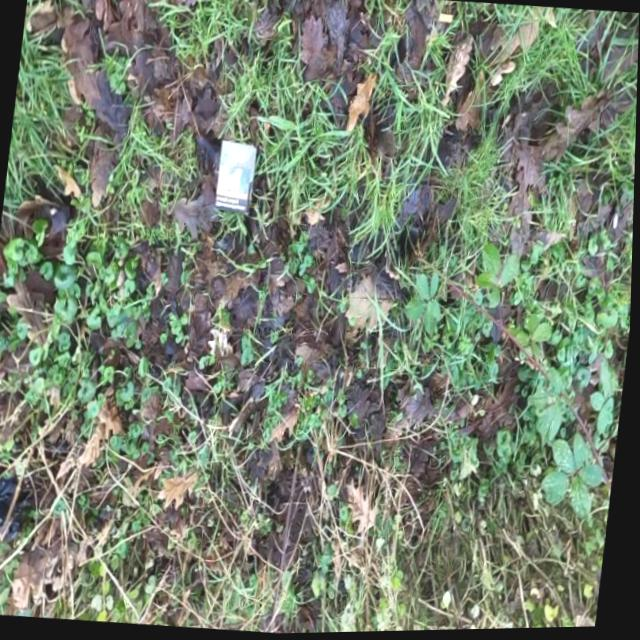Paper: (214, 141, 258, 217)
